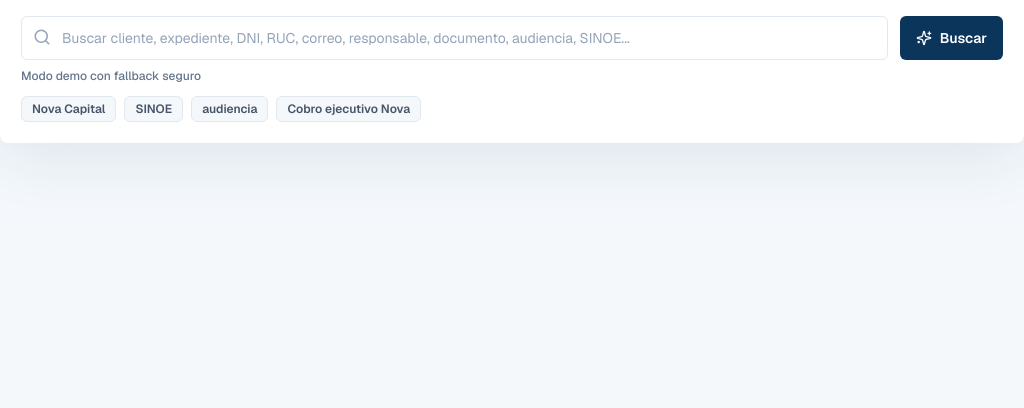
Operational core UI › uses cloud search when a session token exists
Replace the text in the field with placeholder "Buscar cliente" with "live". click: (454, 38)
box: [21,16,888,60]
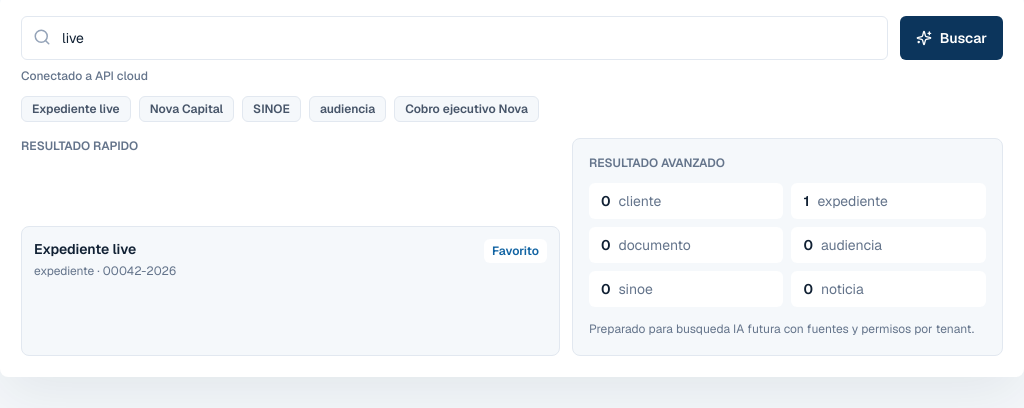
Now the button "Expediente live" is shown, box [21,96,131,122]
